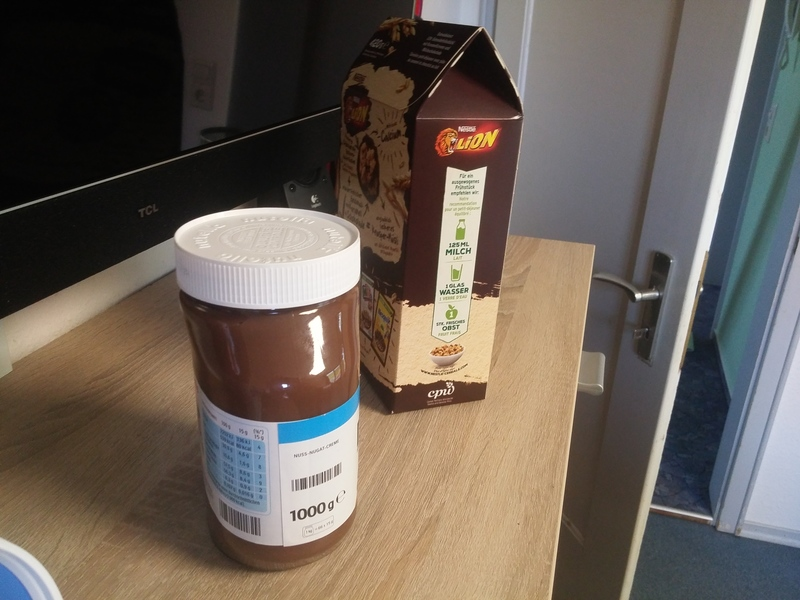cereals: (335, 15, 523, 414)
nutella: (175, 205, 362, 570)
